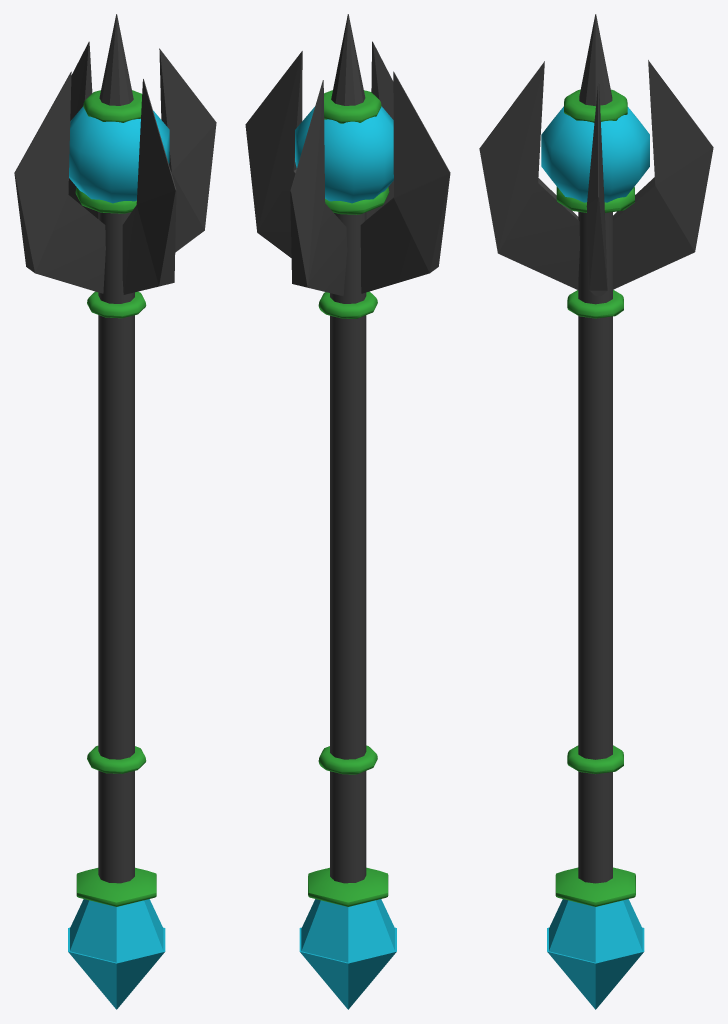
File: staff.FBX
The picture shows the model from 3 angles, left to right: view 1: azimuth 30°, elevation 25°; view 2: azimuth 150°, elevation 25°; view 3: azimuth 270°, elevation 25°; orthographic projection.
Visible parts, largest first — view 1: Cone001; view 2: Cone001; view 3: Cone001.
Part boxes in pixels (left/top/right/bottom): Cone001: left=14, top=14, right=216, bottom=1009; Cone001: left=245, top=14, right=450, bottom=1009; Cone001: left=479, top=14, right=713, bottom=1009.
Bounding box in the file's own units: 0.1013 × 0.1011 × 0.4743.
